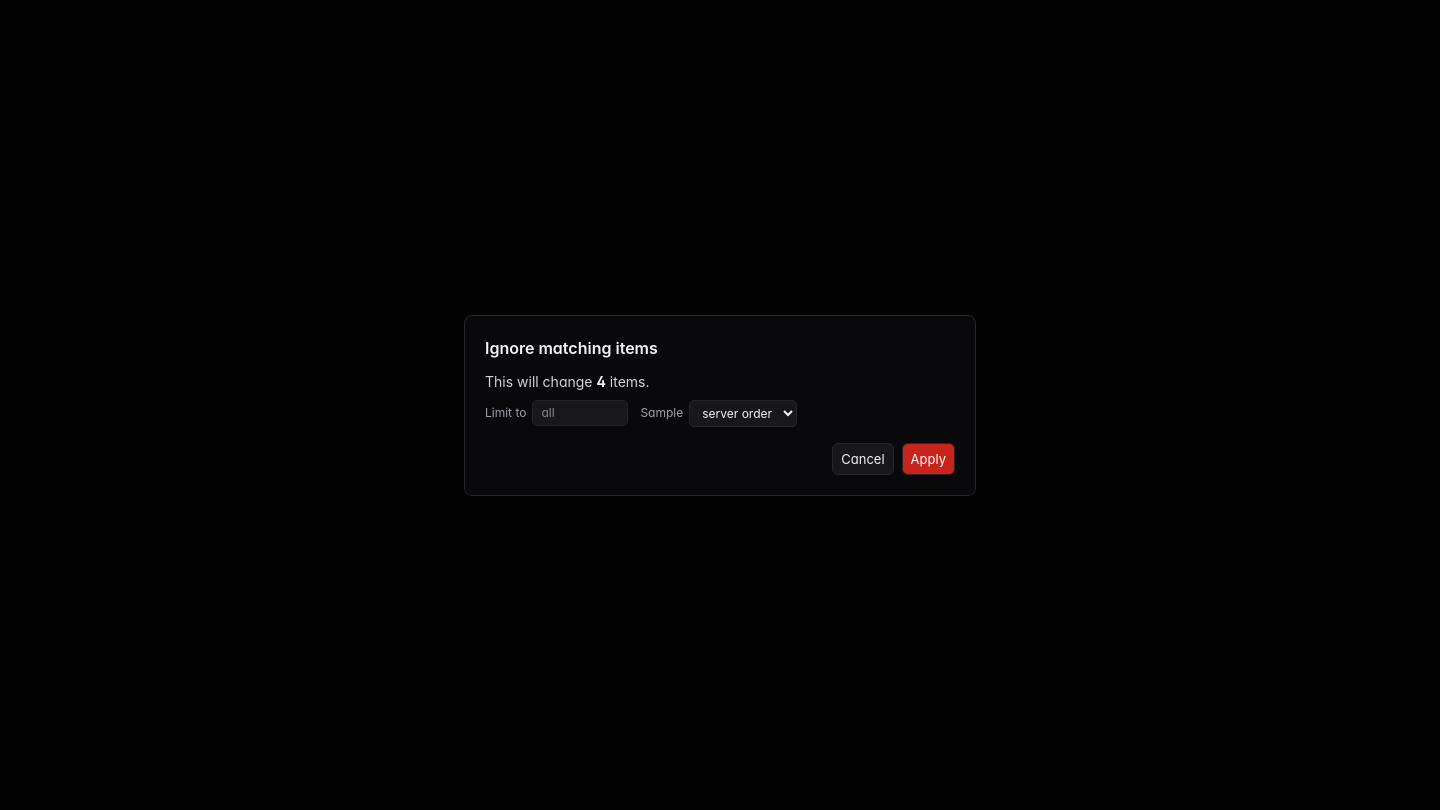
SelectionActionDialog › the seed control exists only for a random sample, and a change re-runs the dry run
Select "Random" in the dropdown with test id "selection-sample". click: (743, 413)
box: [689, 400, 797, 426]
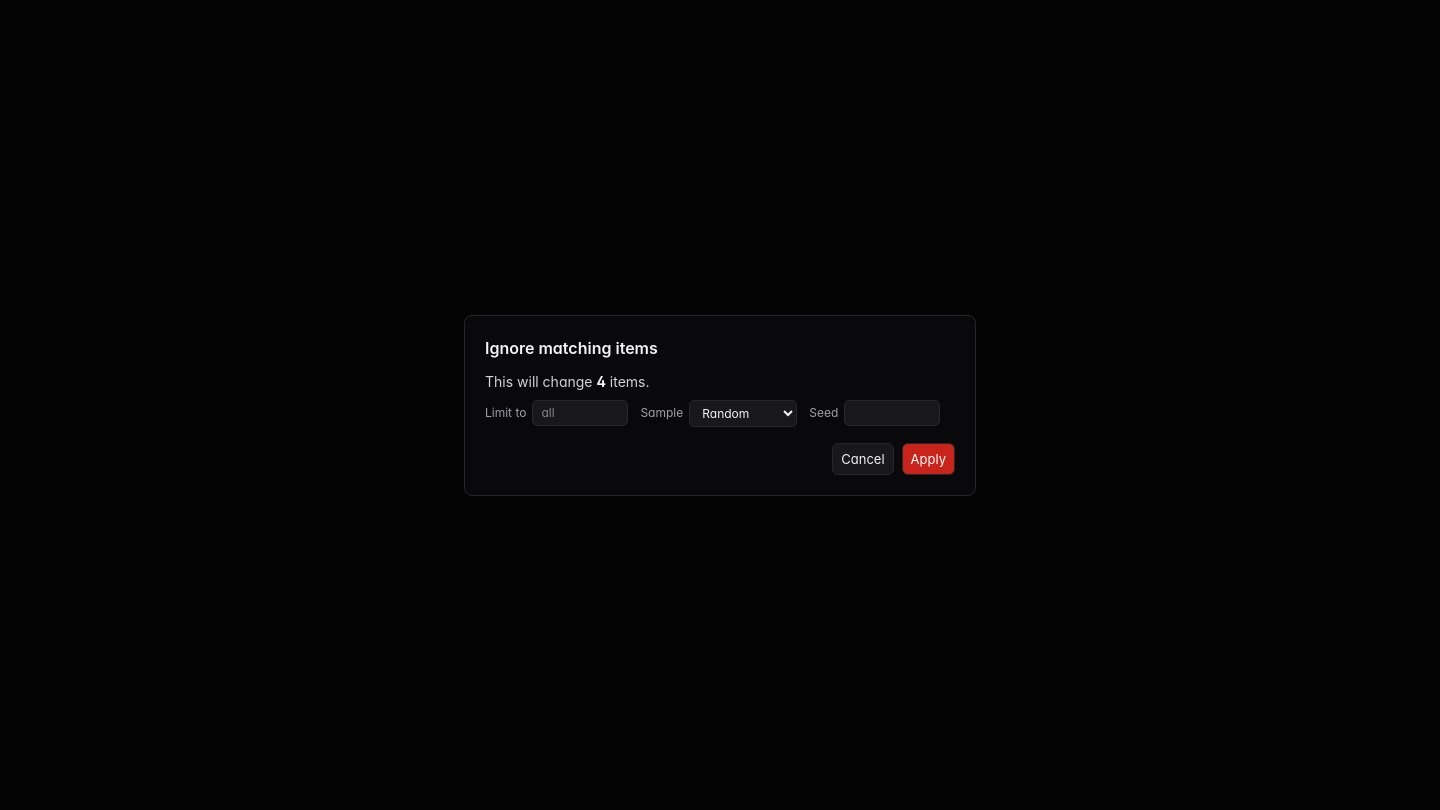
Check: the number field with test id "selection-seed" is shown, box [844, 400, 940, 426]
